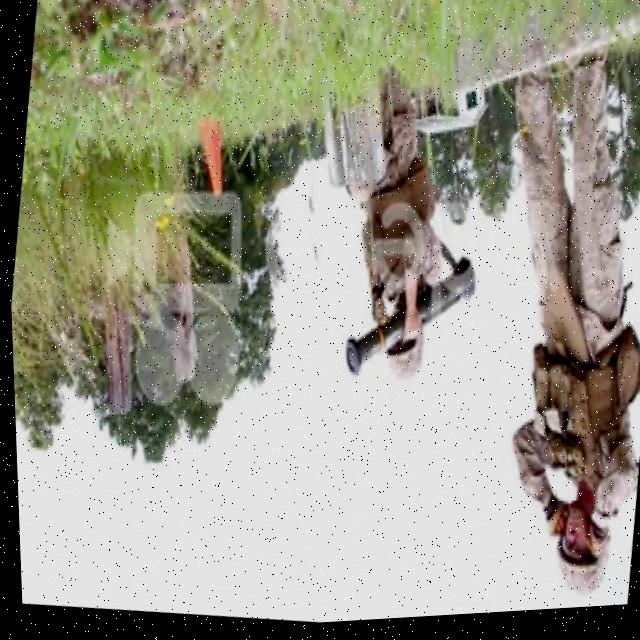rocket: (328, 244, 487, 400)
